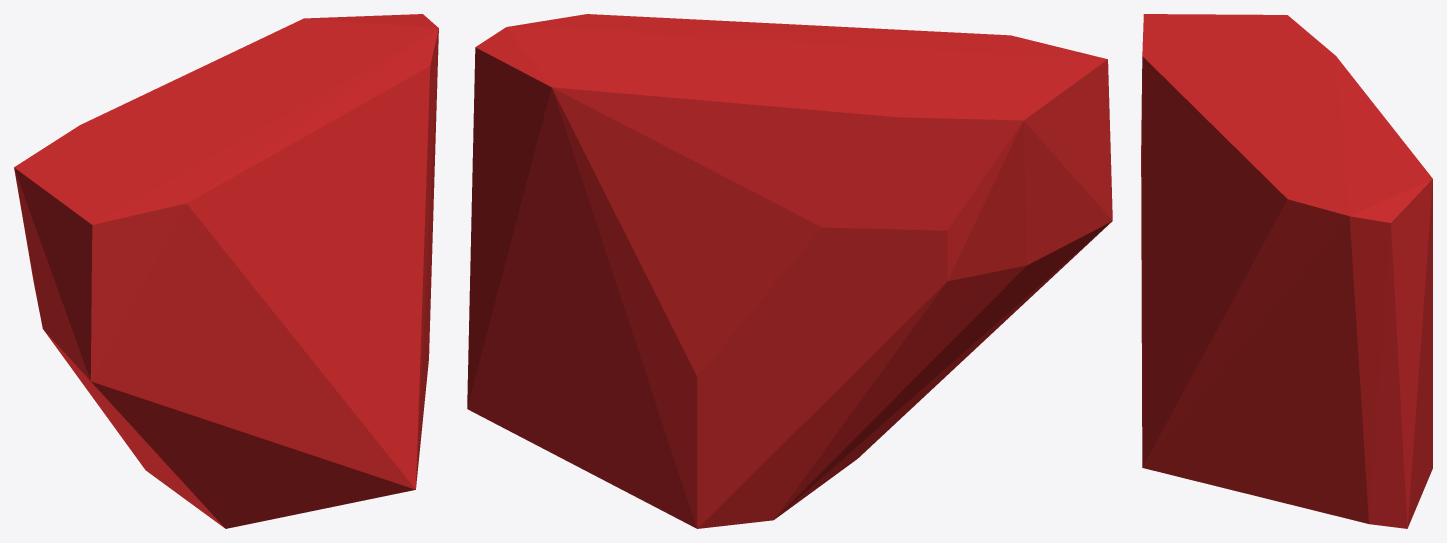
Rendered from mouth_cup023.obj.
3 views of the same model, side by side, from view 1: azimuth 30°, elevation 25°; view 2: azimuth 150°, elevation 25°; view 3: azimuth 270°, elevation 25° (orthographic). The views are drawn at different scales.
Visible parts, largest first — view 1: mouth_cup023_mouth_cup023.001; view 2: mouth_cup023_mouth_cup023.001; view 3: mouth_cup023_mouth_cup023.001.
Part boxes in pixels (box(x1,y1,x2,y2)): mouth_cup023_mouth_cup023.001: box(14, 14, 438, 528); mouth_cup023_mouth_cup023.001: box(467, 14, 1112, 528); mouth_cup023_mouth_cup023.001: box(1141, 14, 1432, 528).
Size of the model in its own units: 0.0959 by 0.0759 by 0.0569.
